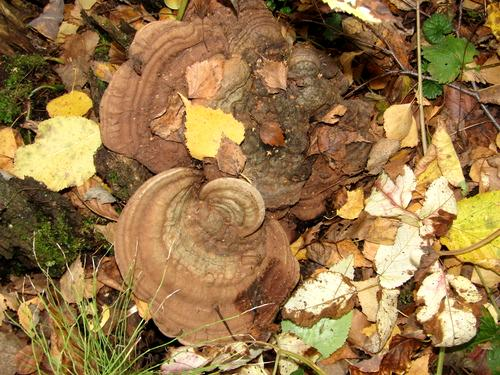Ganoderma - Fruit Body: (101, 0, 369, 175), (108, 176, 302, 354)
